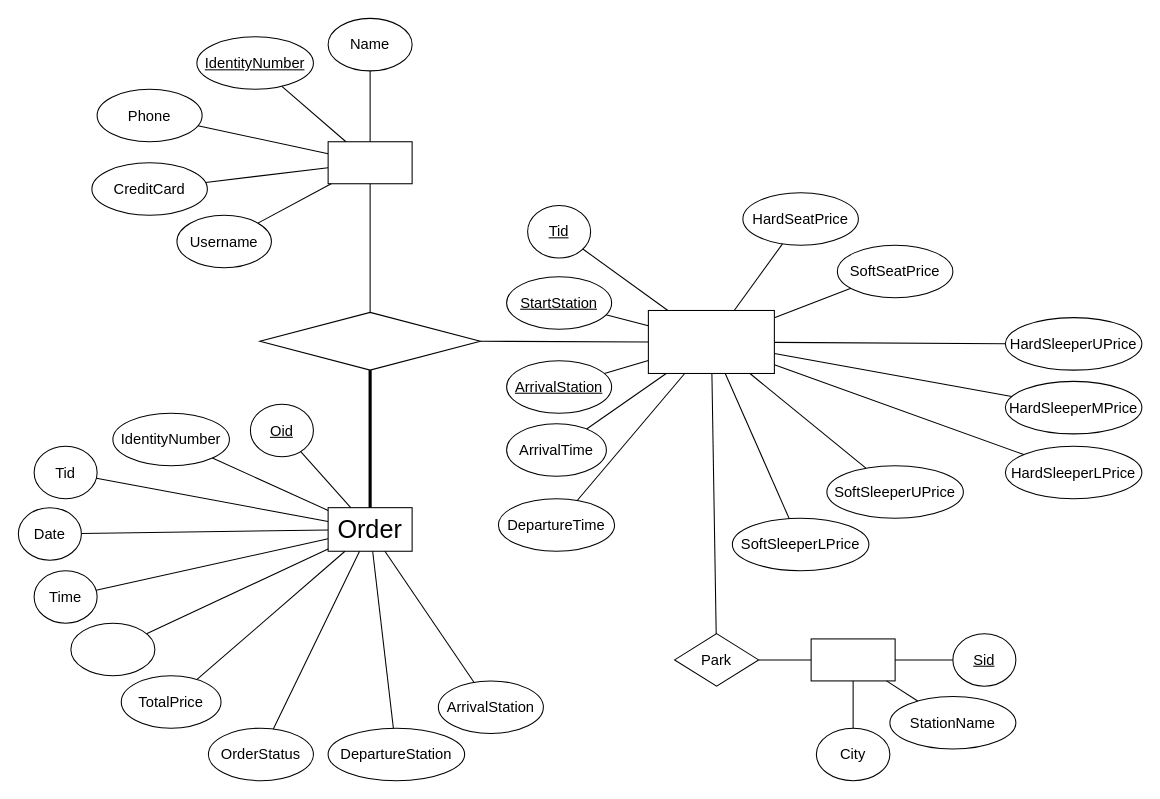
Some shapes in this 1160 by 799 pixel diagram are drawn without their labels. Here are the shapes that lost their labels. From the top down, the centre of each, then its label:
point (369, 162): User
point (369, 340): Book/Query
point (710, 341): TrainItem
point (112, 649): SeatType
point (852, 659): Station
